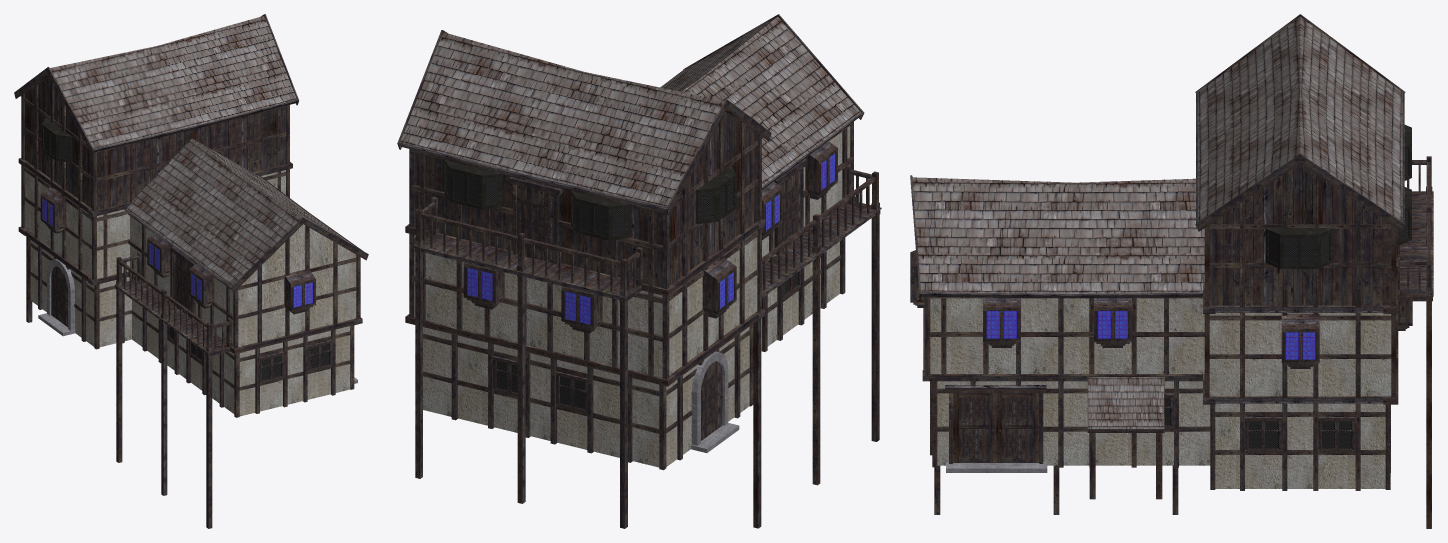
The model's file is thouse12.dae.
3 views of the same model, side by side, from view 1: azimuth 30°, elevation 25°; view 2: azimuth 150°, elevation 25°; view 3: azimuth 270°, elevation 25° (orthographic). The views are drawn at different scales.
Visible parts, largest first — view 1: House2_Roof, House1_Roof, House2_Level3, House1_Level2, House1_Level1, House2_Level3_Beams, House1_Level1_Beams, House2_Level2, House1_Level2_Beams, Balcony4Stilts_001, House2_Level1, House2_Level2_Beams (+18 smaller); view 2: House2_Roof, House2_Level1, House2_Level2, House1_Roof, House2_Level3, House2_Level1_Beams, House2_Level2_Beams, House2_Level3_Beams, Balcony4Stilts_001, Balcony4Stilts, Balcony4, Balcony4_001 (+33 smaller); view 3: House1_Roof, House2_Roof, House2_Level3, House1_Level2, House2_Level2, House2_Level1, House1_Level1, House2_Level3_Beams, House2_Level1_Beams, House1_Level2_Beams, Roof2Outer, House2_Level2_Beams (+27 smaller).
Boxes of the visible parts, left/top/right/bottom form: House2_Roof: left=50, top=16, right=296, bottom=148; House1_Roof: left=126, top=138, right=355, bottom=286; House2_Level3: left=25, top=76, right=285, bottom=210; House1_Level2: left=130, top=216, right=356, bottom=346; House1_Level1: left=132, top=299, right=350, bottom=416; House2_Level3_Beams: left=21, top=79, right=289, bottom=211; House1_Level1_Beams: left=131, top=307, right=354, bottom=417; House2_Level2: left=25, top=167, right=285, bottom=278; House1_Level2_Beams: left=128, top=214, right=360, bottom=348; Balcony4Stilts_001: left=116, top=290, right=212, bottom=528; House2_Level1: left=31, top=240, right=131, bottom=347; House2_Level2_Beams: left=21, top=165, right=289, bottom=280; House2_Roof: left=400, top=32, right=724, bottom=207; House2_Level1: left=423, top=326, right=749, bottom=467; House2_Level2: left=414, top=231, right=757, bottom=377; House1_Roof: left=662, top=16, right=860, bottom=186; House2_Level3: left=414, top=112, right=757, bottom=287; House2_Level1_Beams: left=423, top=324, right=753, bottom=470; House2_Level2_Beams: left=409, top=228, right=761, bottom=379; House2_Level3_Beams: left=409, top=115, right=761, bottom=288; Balcony4Stilts_001: left=753, top=215, right=879, bottom=528; Balcony4Stilts: left=415, top=252, right=627, bottom=528; Balcony4: left=413, top=197, right=643, bottom=298; Balcony4_001: left=762, top=165, right=881, bottom=295; House1_Roof: left=912, top=177, right=1204, bottom=293; House2_Roof: left=1198, top=17, right=1402, bottom=221; House2_Level3: left=1209, top=163, right=1391, bottom=305; House1_Level2: left=930, top=298, right=1204, bottom=373; House2_Level2: left=1209, top=313, right=1391, bottom=396; House2_Level1: left=1215, top=403, right=1385, bottom=488; House1_Level1: left=937, top=381, right=1210, bottom=465; House2_Level3_Beams: left=1204, top=172, right=1397, bottom=306; House2_Level1_Beams: left=1210, top=403, right=1390, bottom=490; House1_Level2_Beams: left=925, top=296, right=1204, bottom=374; Roof2Outer: left=1088, top=377, right=1163, bottom=428; House2_Level2_Beams: left=1204, top=313, right=1397, bottom=397.
Size of the model in its own units: 8.89 by 13.81 by 14.1.
Materials: 25 (25 with a texture image).
